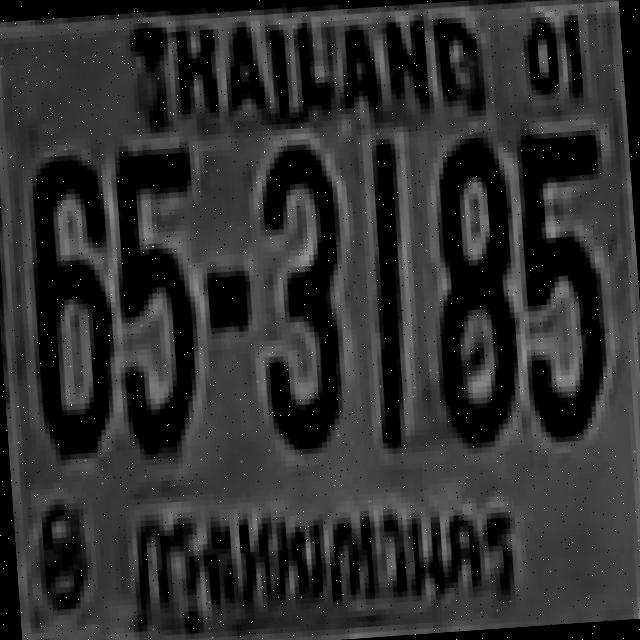1: (366, 138, 409, 360)
3: (240, 125, 368, 477)
5: (511, 124, 616, 448), (108, 122, 204, 450)
6: (27, 140, 122, 449)
8: (422, 134, 518, 442)
Bangkok: (127, 473, 546, 640)
